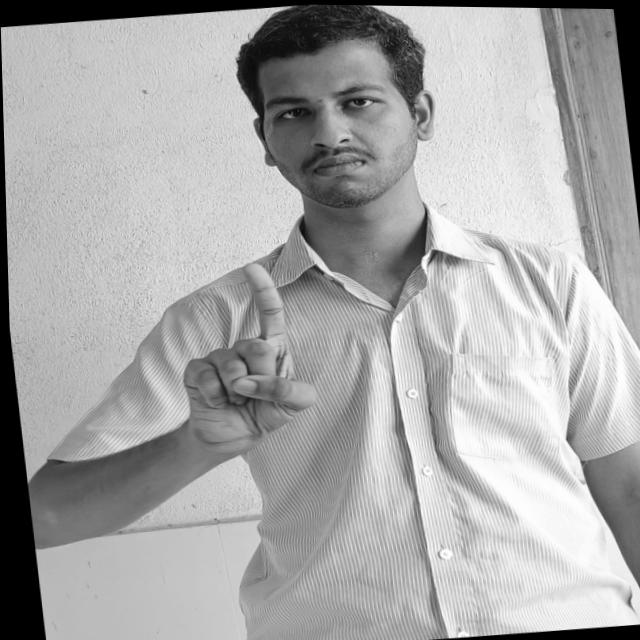Question: (147, 255, 323, 450)
